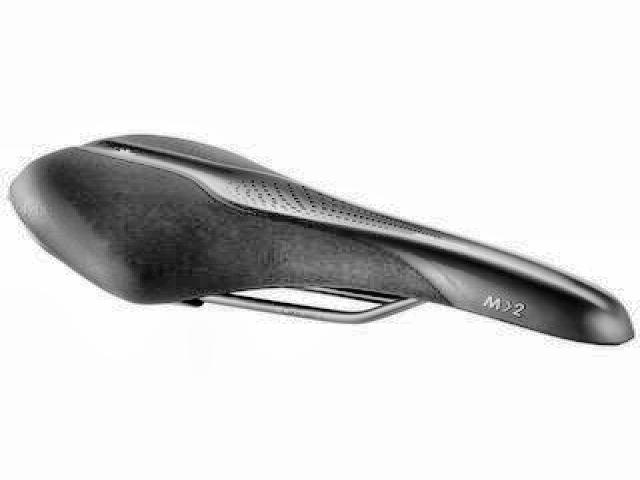saddle: (8, 133, 638, 350)
